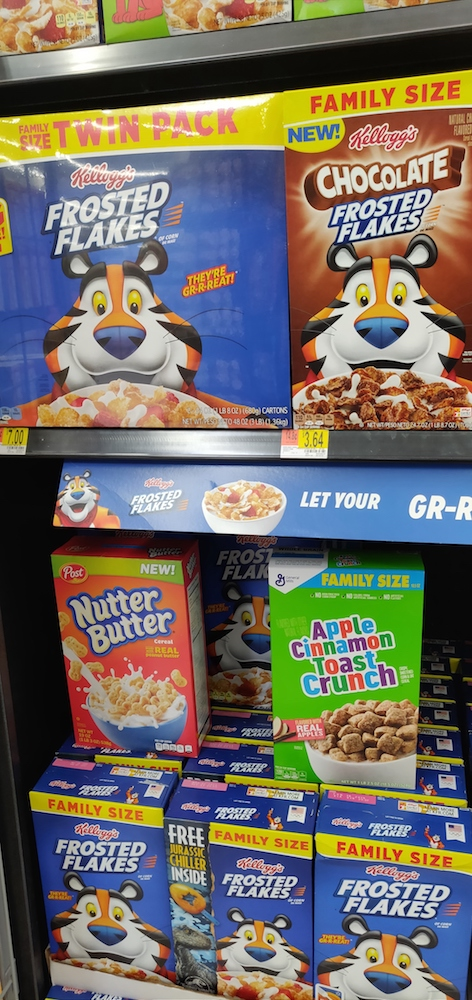Nutter Butter-565717511: (50, 555, 200, 750)
